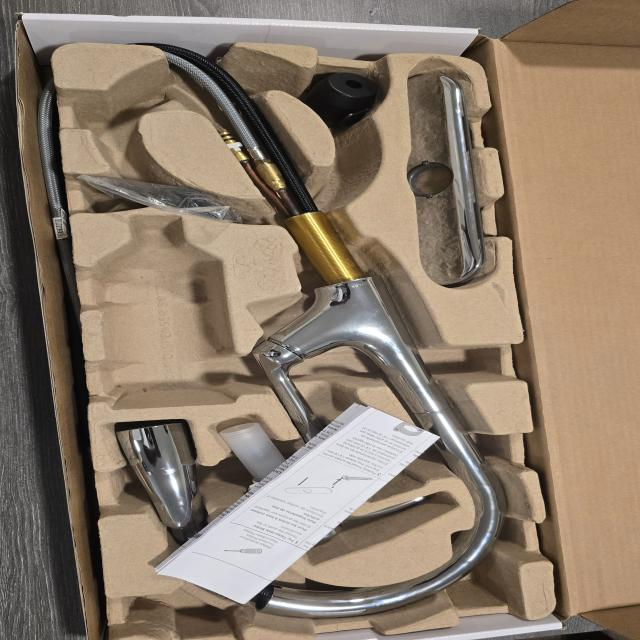1o: (118, 45, 506, 620)
2o: (220, 421, 427, 548)
3m: (88, 215, 234, 408)
4: (405, 73, 484, 287)
5: (302, 71, 384, 135)
6m: (78, 75, 170, 148)
7: (76, 175, 244, 221)
8: (152, 401, 441, 606)
